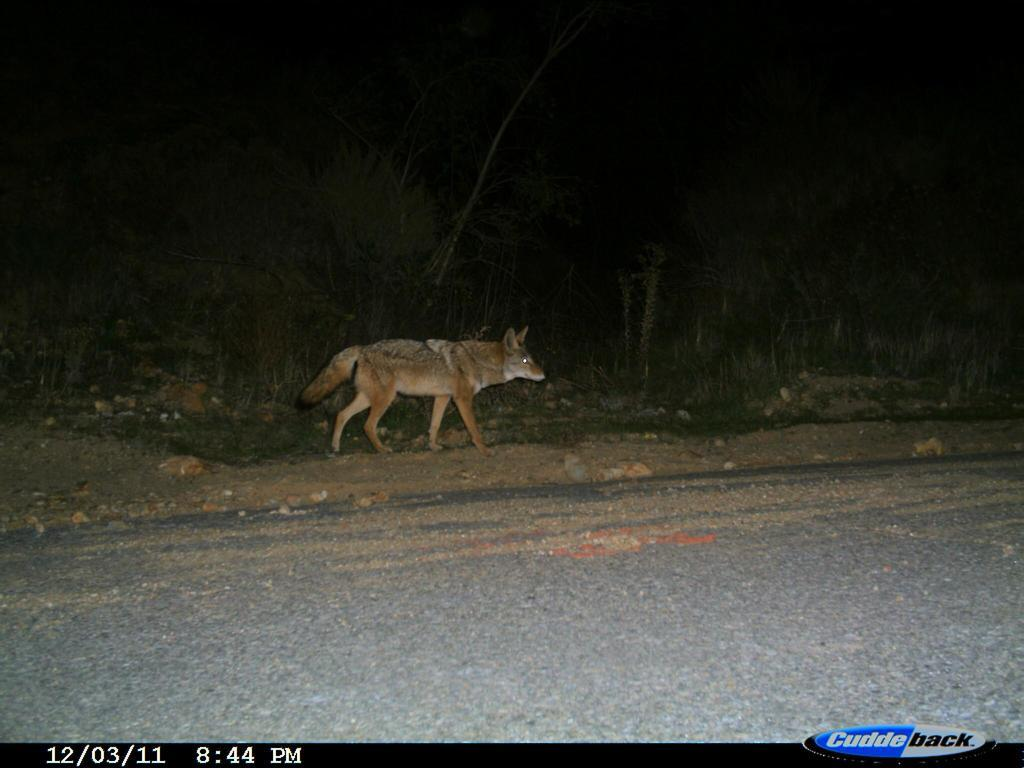coyote: (282, 312, 577, 483)
